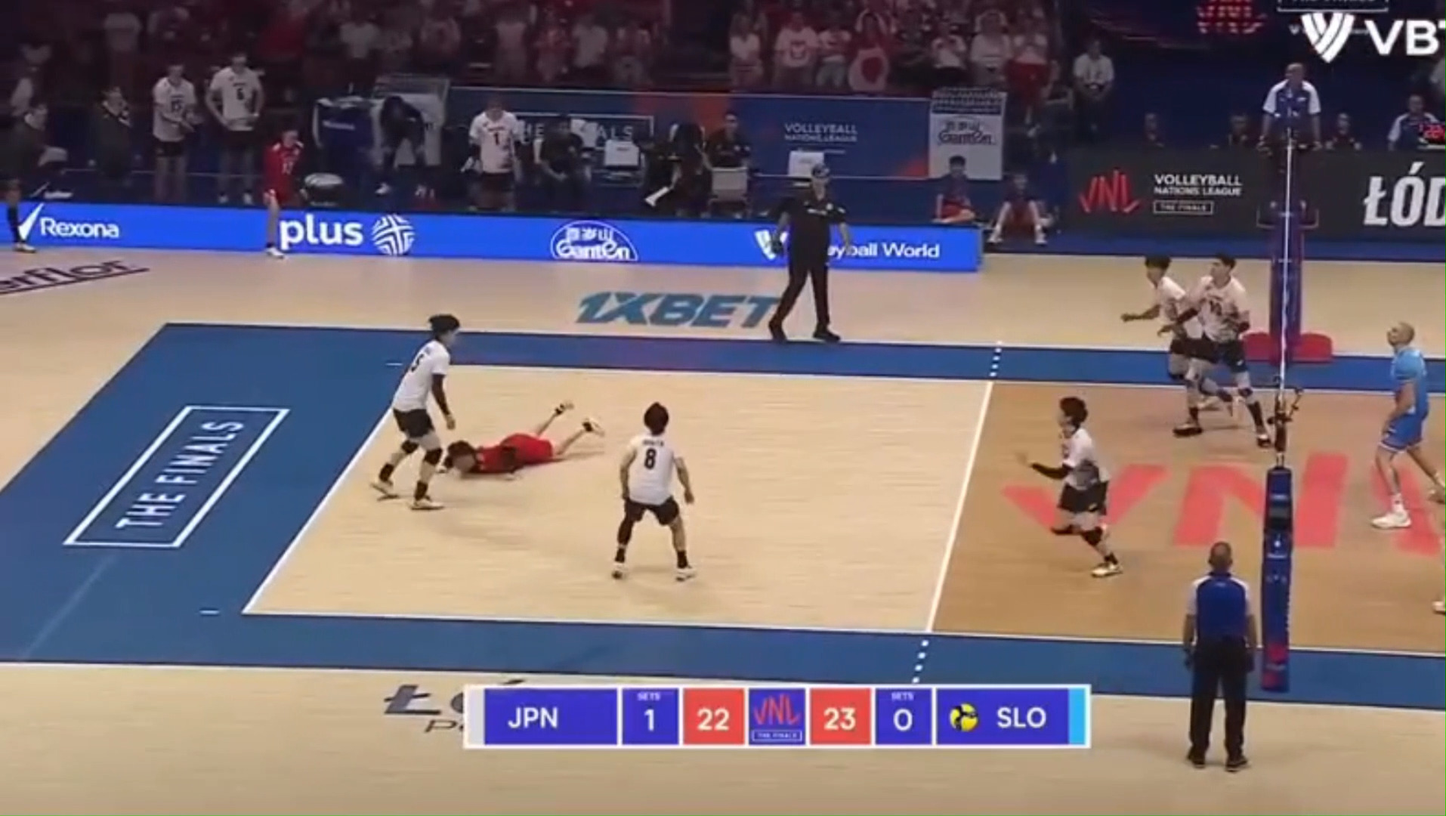player: (1370, 322, 1445, 530)
player 1: (1157, 255, 1272, 447), (1027, 396, 1121, 577), (372, 314, 459, 509), (611, 402, 694, 581), (441, 401, 603, 477), (1121, 256, 1201, 381)
referee: (1182, 541, 1257, 771), (768, 163, 851, 343), (1258, 62, 1321, 204)
